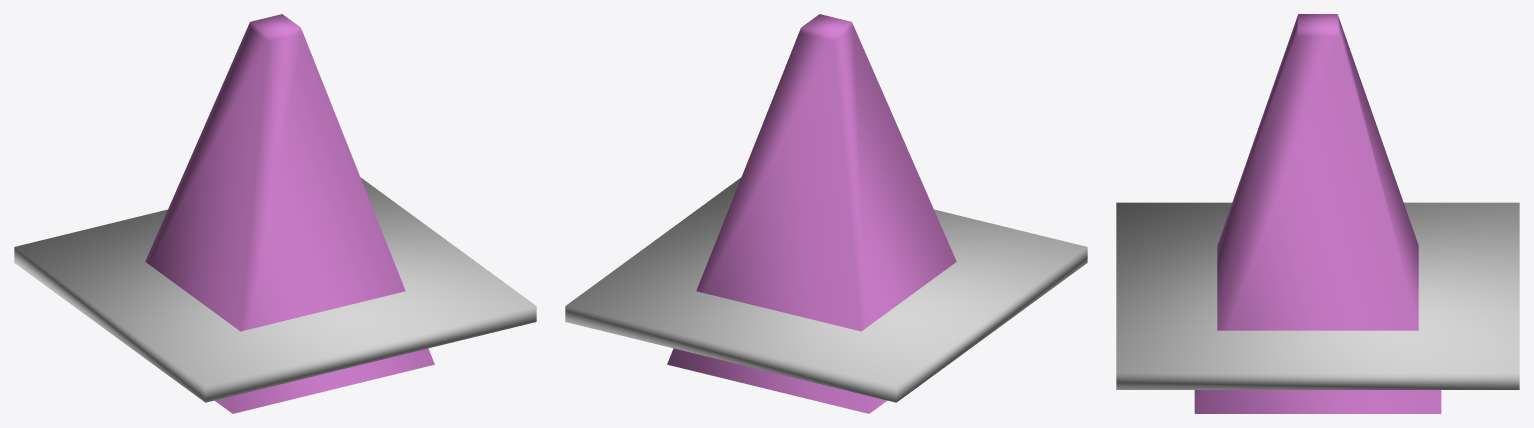
The model's file is forceElevatorDown.fbx.
The picture shows the model from 3 angles, left to right: view 1: azimuth 30°, elevation 25°; view 2: azimuth 150°, elevation 25°; view 3: azimuth 270°, elevation 25°; orthographic projection. The views are drawn at different scales.
Parts seen in each view (by area): view 1: ForceLiftDown, ForceLiftDownRotor; view 2: ForceLiftDown, ForceLiftDownRotor; view 3: ForceLiftDown, ForceLiftDownRotor.
Part boxes in pixels (<box>): ForceLiftDown: <box>145,14,434,413</box>; ForceLiftDownRotor: <box>14,177,536,402</box>; ForceLiftDown: <box>667,14,956,413</box>; ForceLiftDownRotor: <box>565,177,1087,402</box>; ForceLiftDown: <box>1194,14,1441,413</box>; ForceLiftDownRotor: <box>1116,202,1519,389</box>.
Size of the model in its own units: 0.2008 by 0.1865 by 0.2008.
